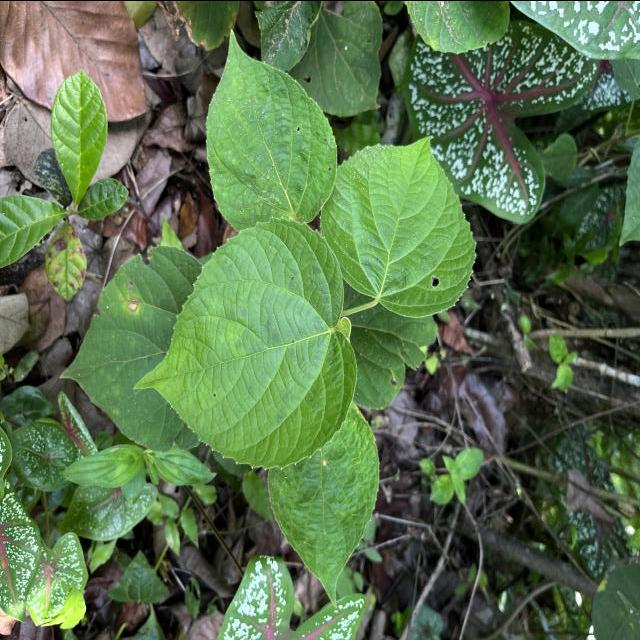Clerodendrum infortunatum: (130, 214, 360, 472), (57, 243, 207, 454), (320, 133, 478, 319), (204, 26, 339, 231), (266, 398, 382, 609)
